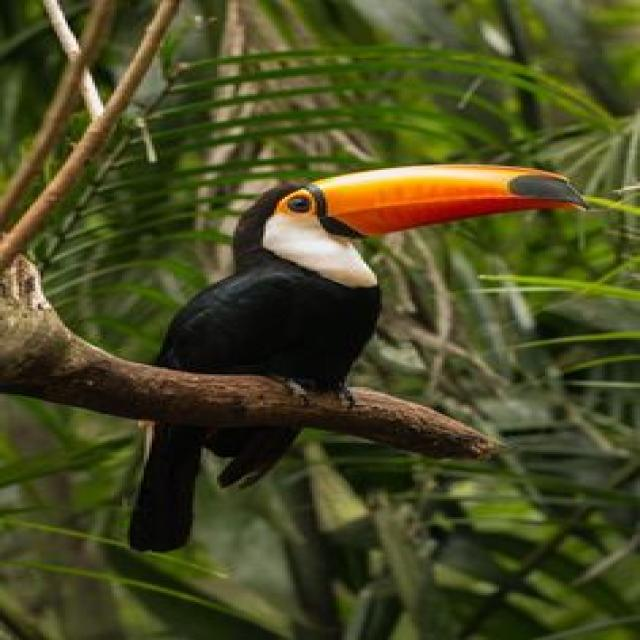Herbivorous: (155, 165, 586, 392), (127, 425, 306, 555)
